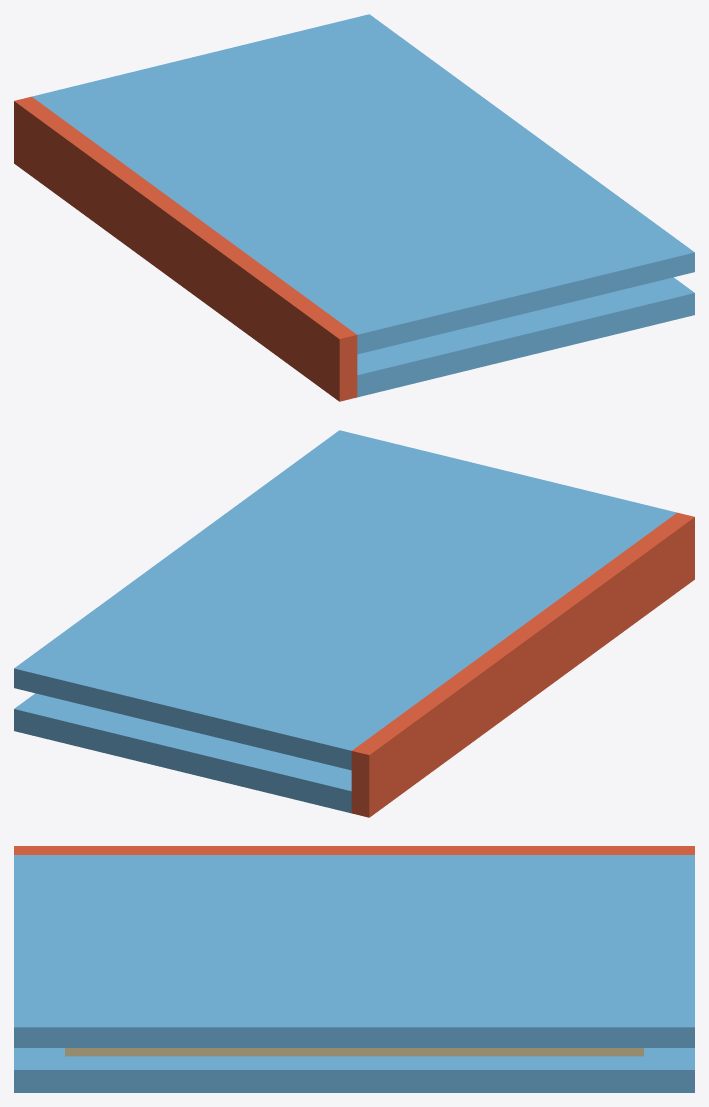
Rendered from book_blue.fbx.
3 renders of one model, top to bottom at view 1: azimuth 30°, elevation 25°; view 2: azimuth 150°, elevation 25°; view 3: azimuth 270°, elevation 25°, orthographic. The views are drawn at different scales.
Visible parts, largest first — view 1: Cube; view 2: Cube; view 3: Cube.
Part boxes in pixels (x1,y1,x2,y2): Cube: (14,14,694,401); Cube: (14,430,694,817); Cube: (14,846,694,1092).
Bounding box in the file's own units: 126 × 21.22 × 200.
